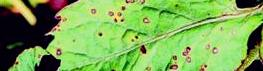Tomato leaf bacterial spot: (42, 0, 261, 71)
